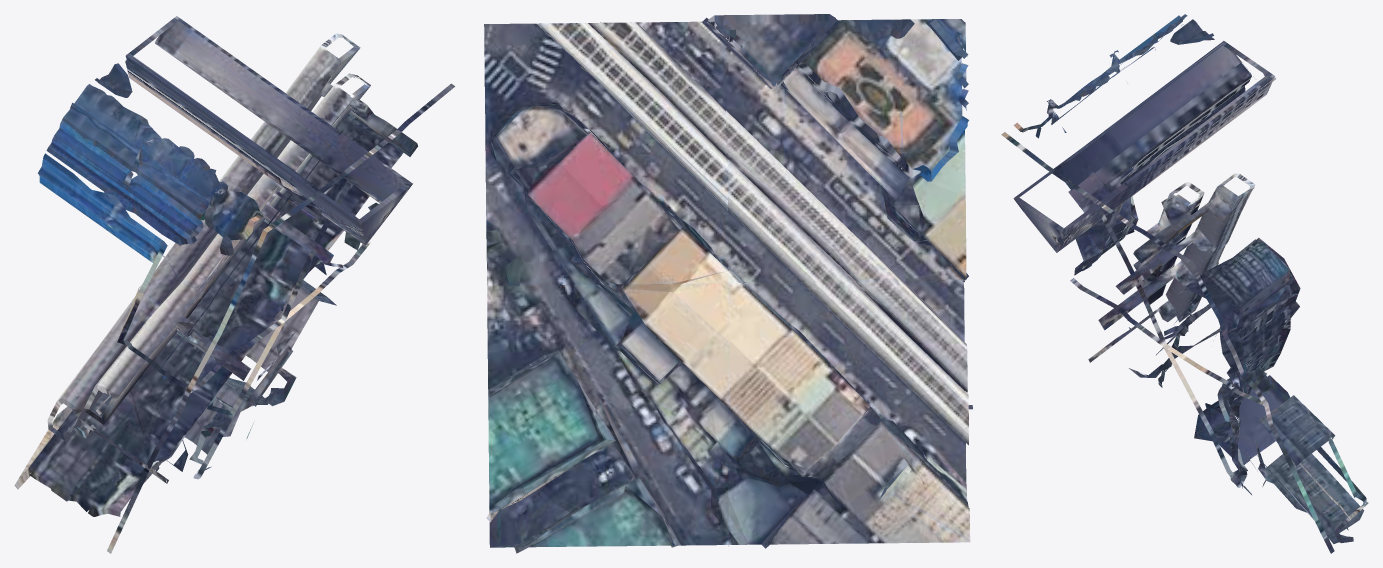
3 views of the same model, side by side, from view 1: azimuth 30°, elevation 25°; view 2: azimuth 150°, elevation 25°; view 3: azimuth 270°, elevation 25° (orthographic). The views are drawn at different scales.
Bounding box in the file's own units: 85.6 × 88.27 × 70.69.
Materials: 2 (2 with a texture image).
